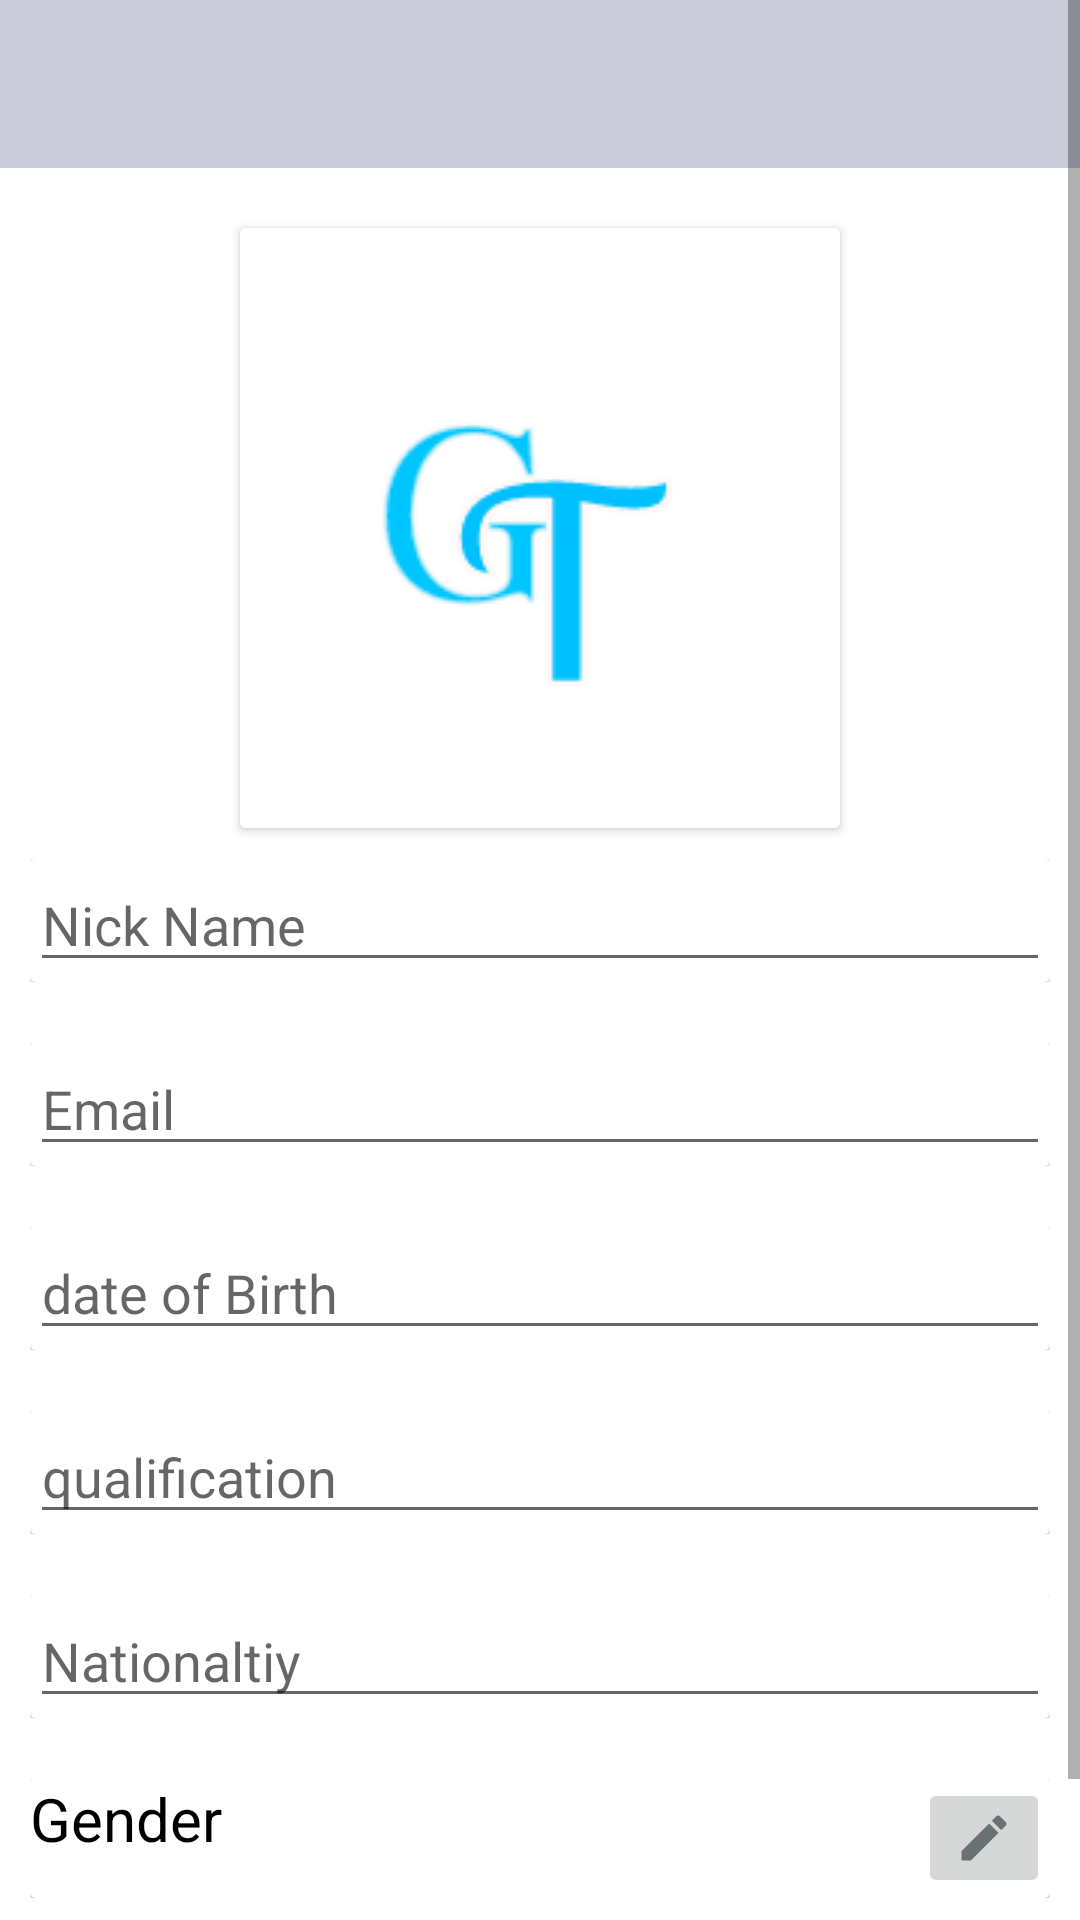

Point at icon controls on the screen. Image size 1080x1920, points as (x=x, y=y).
edit: (x=990, y=1847)
